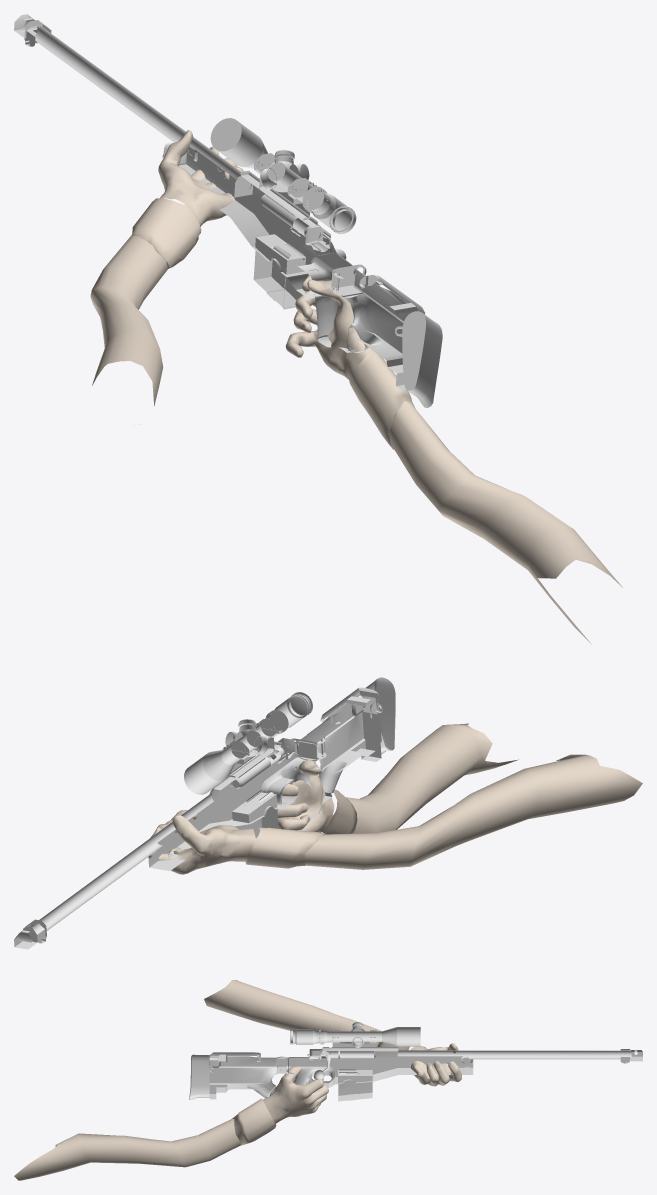
File: awm_posed.glb
3 views of the same model, one above another, from view 1: azimuth 30°, elevation 25°; view 2: azimuth 150°, elevation 25°; view 3: azimuth 270°, elevation 25° (orthographic). The views are drawn at different scales.
Parts seen in each view (by area): view 1: char, body, mag; view 2: char, body, mag; view 3: char, body, mag, bolt, mag2.
Boxes of the visible parts, x1=… form: char: x1=90, y1=130, x2=622, y2=644; body: x1=14, y1=14, x2=442, y2=407; mag: x1=254, y1=242, x2=304, y2=309; char: x1=150, y1=723, x2=642, y2=874; body: x1=14, y1=677, x2=395, y2=949; mag: x1=235, y1=790, x2=278, y2=838; char: x1=14, y1=980, x2=461, y2=1180; body: x1=189, y1=1022, x2=642, y2=1099; mag: x1=338, y1=1069, x2=372, y2=1101; bolt: x1=307, y1=1049, x2=373, y2=1061; mag2: x1=339, y1=1072, x2=372, y2=1095.
Size of the model in its own units: 0.6606 by 0.4717 by 1.77.
